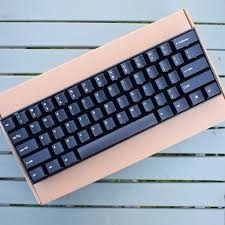keyboard: (4, 15, 223, 195)
